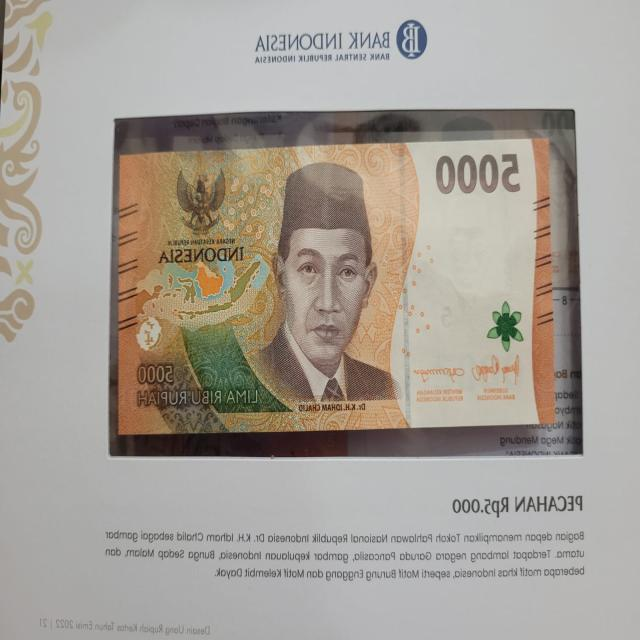lima ribu rupiah: (120, 138, 555, 437)
